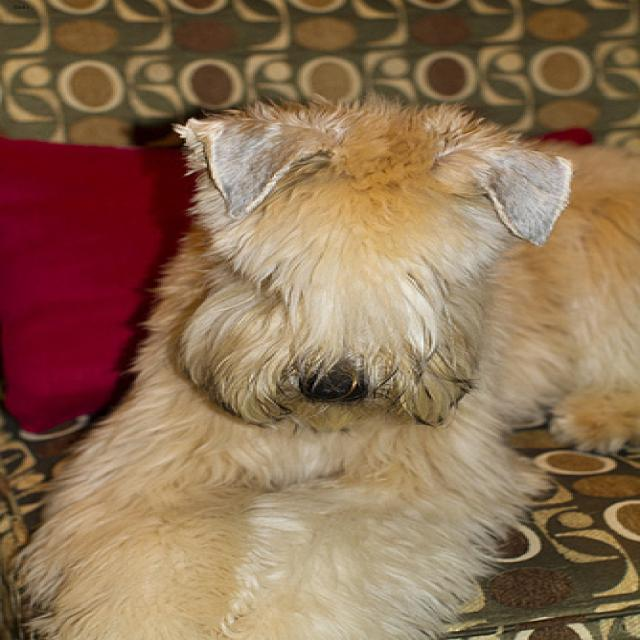dog-wheaten_terrier: (2, 91, 636, 637)
